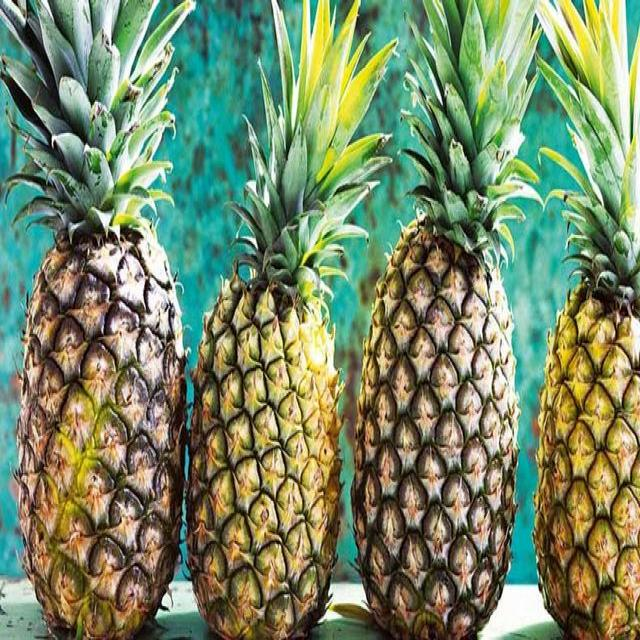pineapple: (352, 2, 521, 637), (18, 1, 184, 638), (186, 1, 340, 638), (536, 1, 640, 638)
